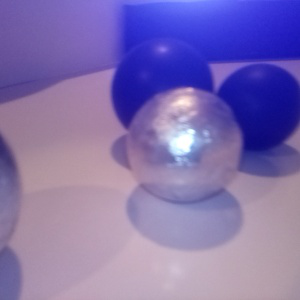alive_ball: (126, 87, 244, 203), (1, 131, 21, 252)
dead_ball: (111, 38, 215, 136), (215, 64, 300, 152)
